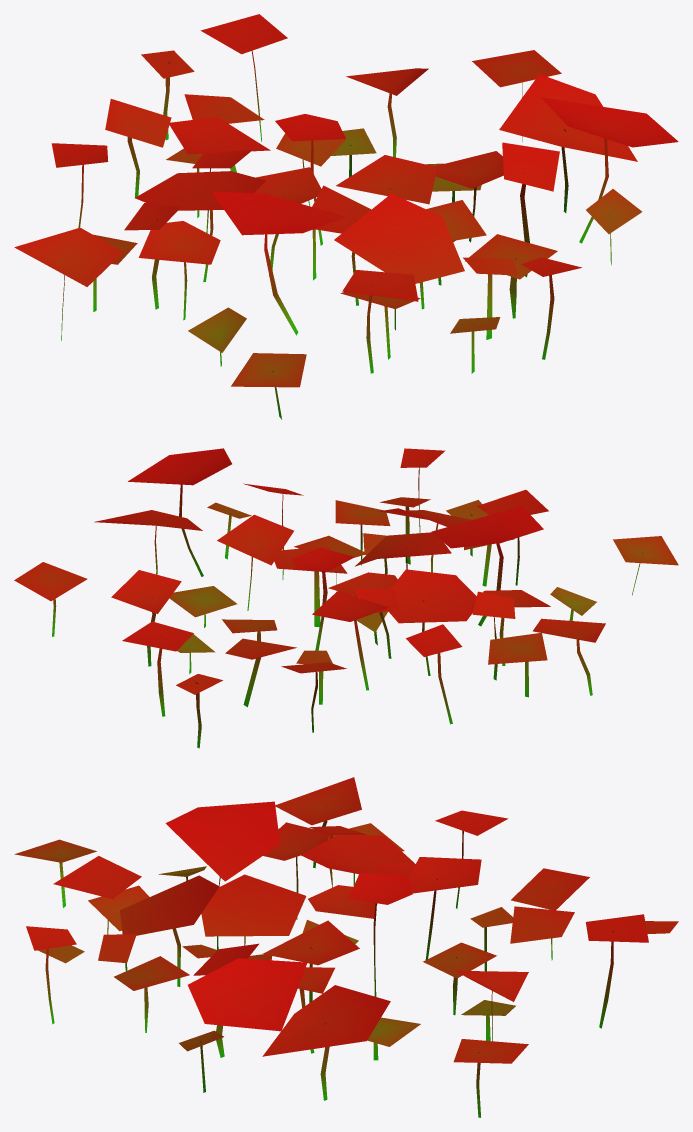
File: Var2_LOD2.fbx
The picture shows the model from 3 angles, top to bottom: view 1: azimuth 30°, elevation 25°; view 2: azimuth 150°, elevation 25°; view 3: azimuth 270°, elevation 25°; orthographic projection. The views are drawn at different scales.
Visible parts, largest first — view 1: _ab89_Var2_LOD2; view 2: _ab89_Var2_LOD2; view 3: _ab89_Var2_LOD2.
Part boxes in pixels (box(x1,y1,x2,y2)): _ab89_Var2_LOD2: box(14, 14, 678, 419); _ab89_Var2_LOD2: box(14, 448, 678, 748); _ab89_Var2_LOD2: box(14, 777, 678, 1117).
Bounding box in the file's own units: 45.32 × 9.71 × 46.22.
